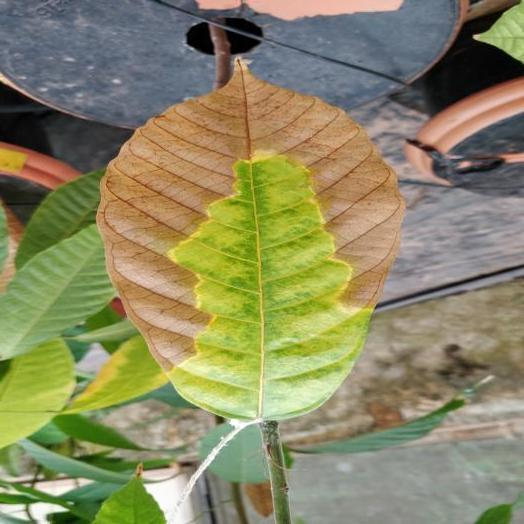Potassium: (97, 60, 403, 421)
